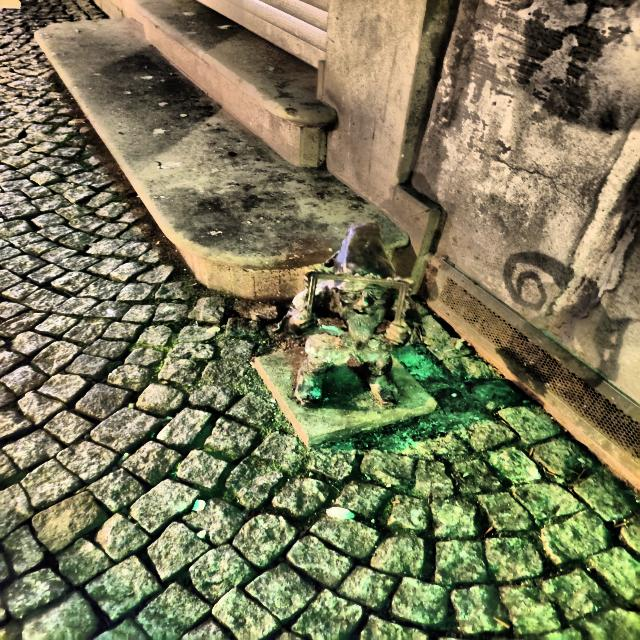Galeriusz: (280, 221, 412, 408)
